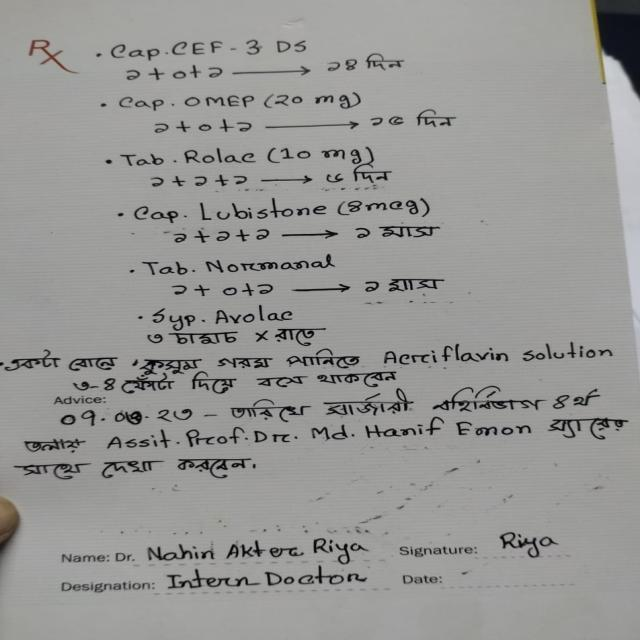medicine: (180, 189, 332, 228), (170, 34, 315, 60), (200, 256, 360, 276), (174, 144, 260, 172), (210, 304, 306, 328), (180, 89, 258, 115)
